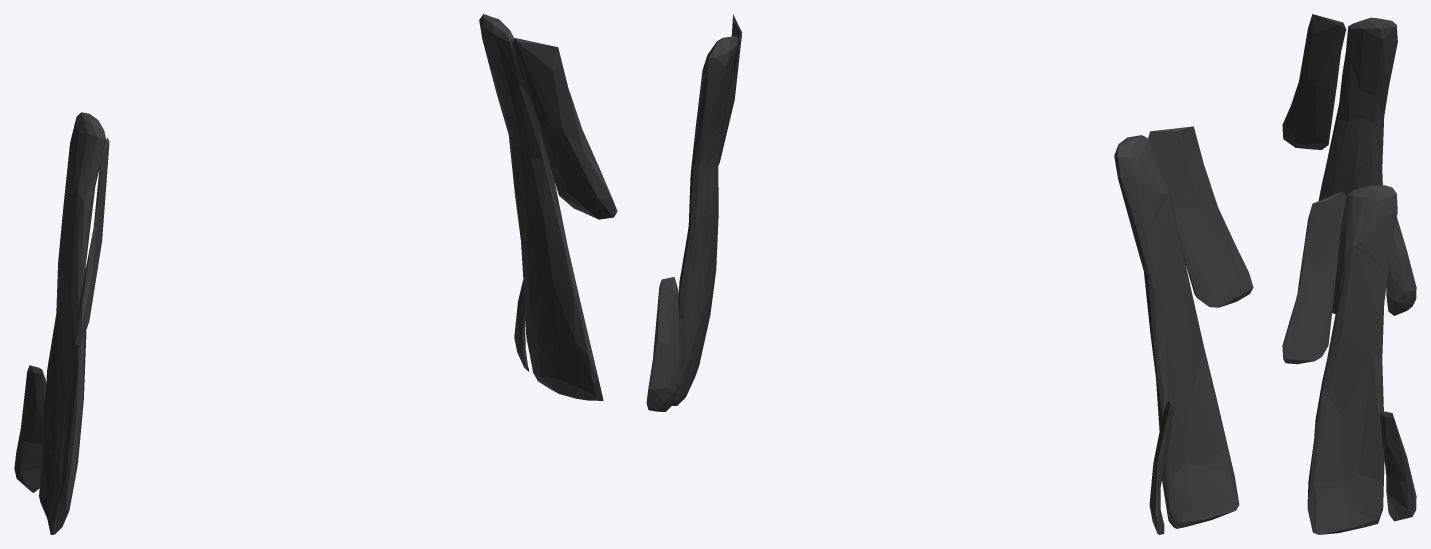
File: lig_medial_collateral_carpal.glb
3 views of the same model, side by side, from view 1: azimuth 30°, elevation 25°; view 2: azimuth 150°, elevation 25°; view 3: azimuth 270°, elevation 25° (orthographic). The views are drawn at different scales.
Parts seen in each view (by area): view 1: lig_medial_collateral_carpal; view 2: lig_medial_collateral_carpal; view 3: lig_medial_collateral_carpal.
Boxes of the visible parts, left/top/right/bottom form: lig_medial_collateral_carpal: left=14, top=14, right=617, bottom=534; lig_medial_collateral_carpal: left=646, top=14, right=1253, bottom=534; lig_medial_collateral_carpal: left=1282, top=14, right=1416, bottom=534.
Size of the model in its own units: 0.00258 by 0.0017 by 0.000641.
Materials: 1 (1 with a texture image).
